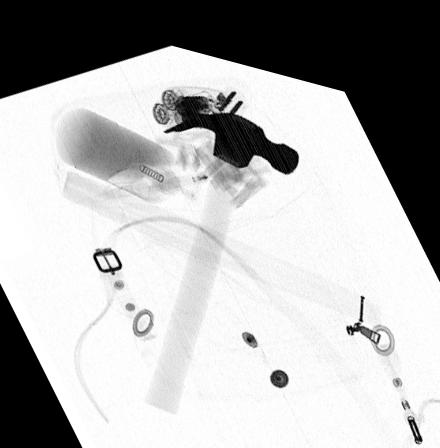Hammer: (142, 98, 299, 405)
